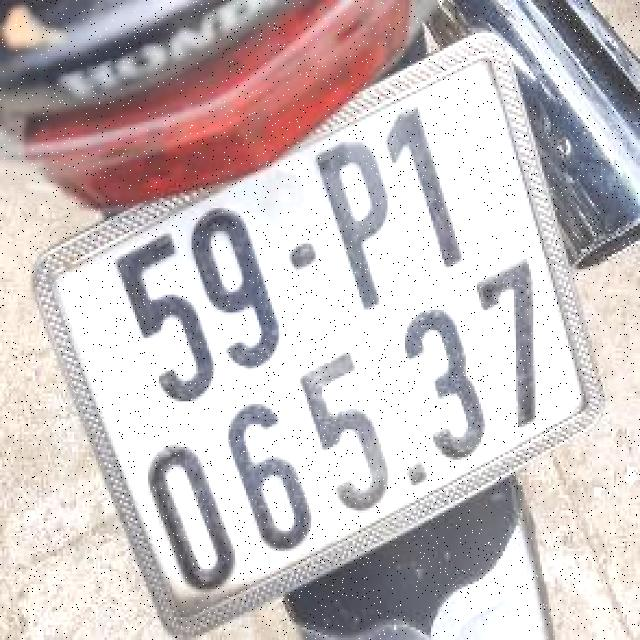0: (132, 428, 262, 615)
1: (381, 89, 483, 285)
3: (385, 275, 507, 482)
5: (279, 330, 423, 539), (103, 215, 240, 424)
6: (206, 396, 333, 568)
7: (461, 234, 593, 457)
9: (174, 178, 309, 392)
P: (299, 112, 427, 333)
